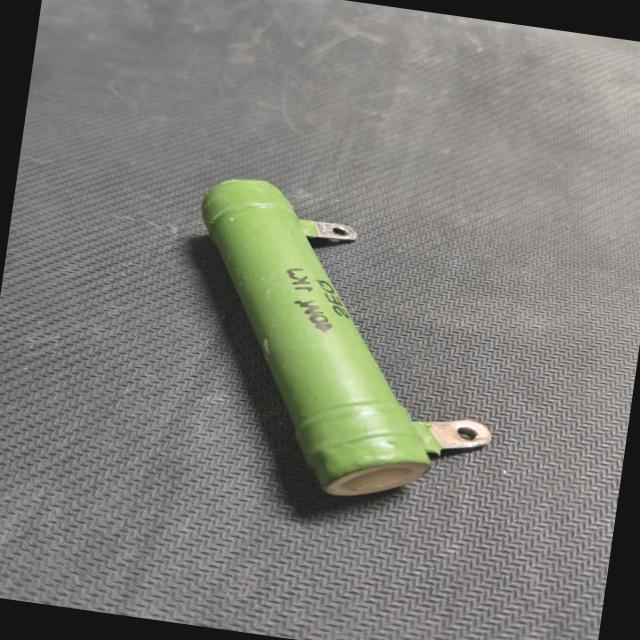resistor: (153, 165, 526, 532)
